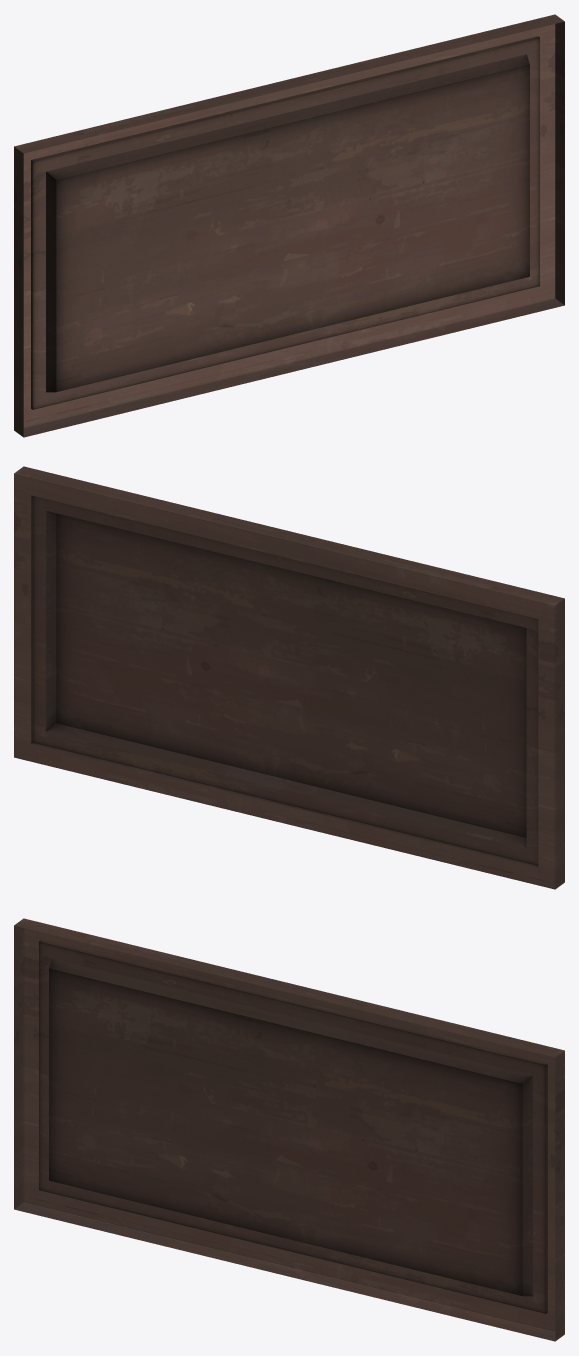
File: props_coalmines_window7.glb
The picture shows the model from 3 angles, top to bottom: view 1: azimuth 30°, elevation 25°; view 2: azimuth 150°, elevation 25°; view 3: azimuth 330°, elevation 25°; orthographic projection.
Visible parts, largest first — view 1: models/props_coalmines/window7; view 2: models/props_coalmines/window7; view 3: models/props_coalmines/window7.
Part boxes in pixels (<box>): models/props_coalmines/window7: <box>14,14,564,437</box>; models/props_coalmines/window7: <box>14,466,564,889</box>; models/props_coalmines/window7: <box>14,918,564,1341</box>.
Size of the model in its own units: 128 by 64.18 by 4.
Materials: 1 (1 with a texture image).
